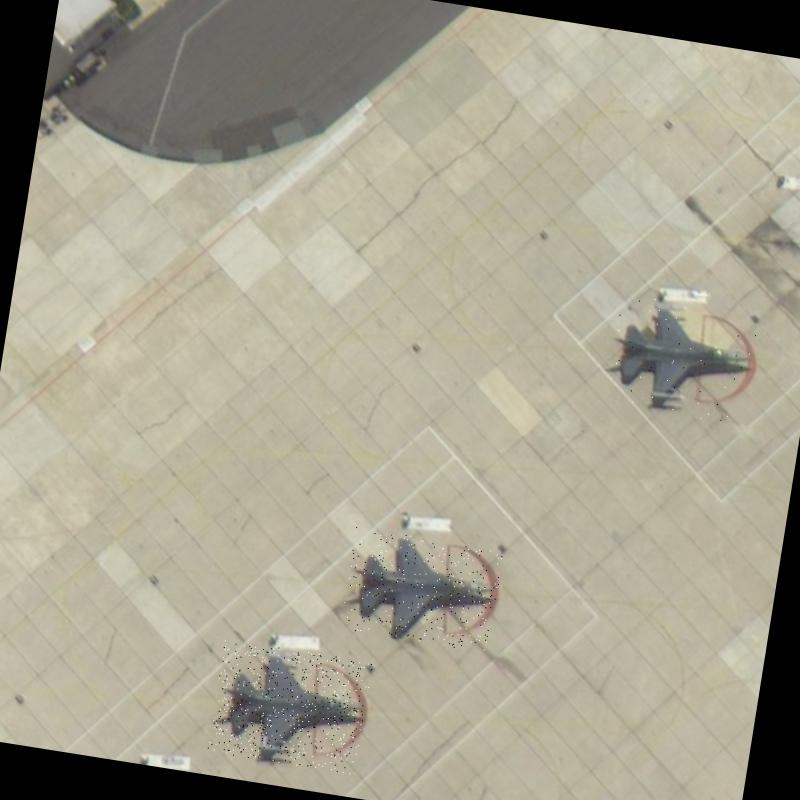A5: (206, 639, 372, 774), (598, 292, 759, 424), (340, 526, 504, 652)
